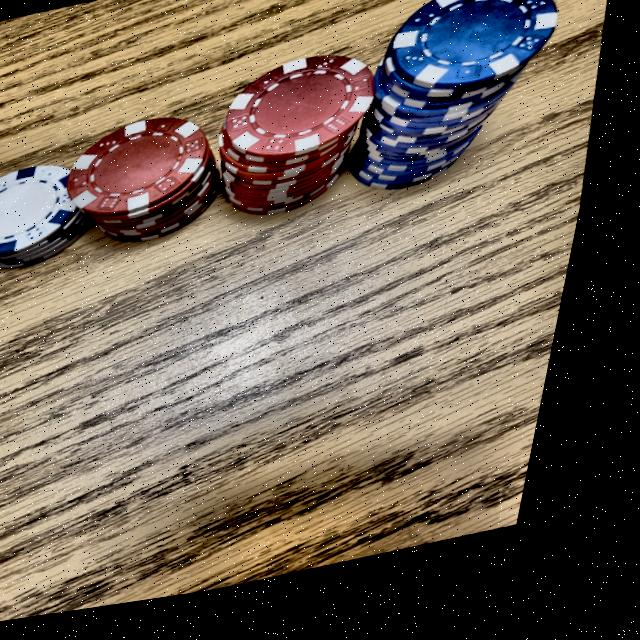Chip: (317, 0, 597, 240), (200, 29, 408, 254), (48, 86, 252, 283), (0, 136, 121, 292)
